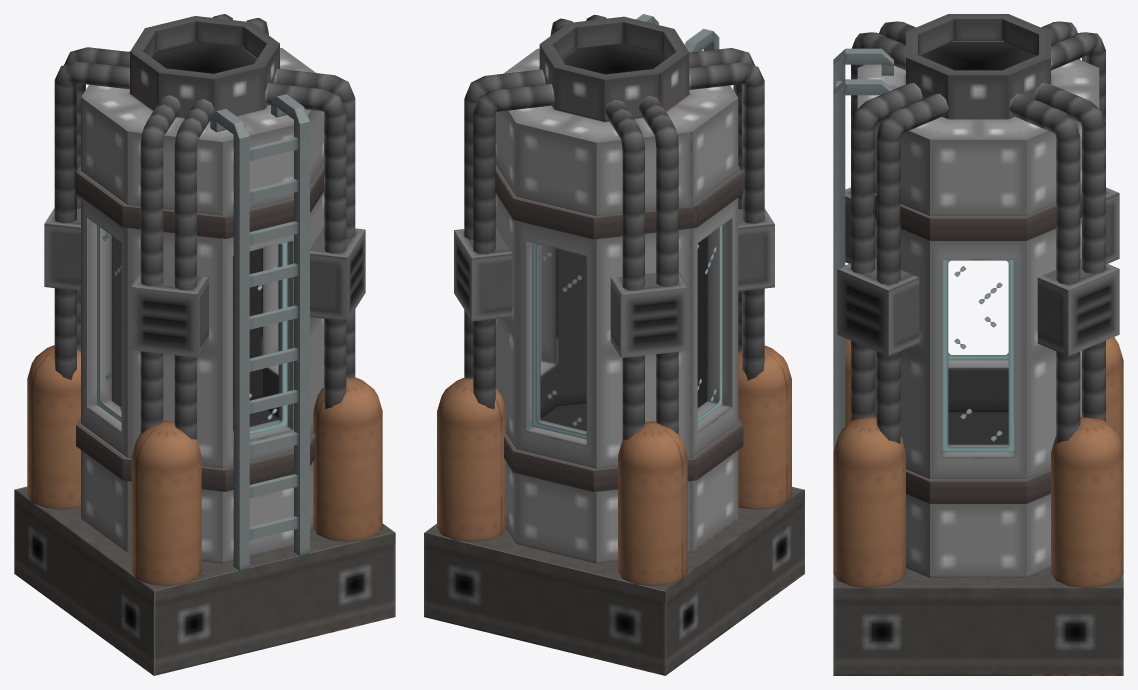
The model's file is acidizer_body.obj.
3 renders of one model, left to right at view 1: azimuth 30°, elevation 25°; view 2: azimuth 150°, elevation 25°; view 3: azimuth 270°, elevation 25°, orthographic. The views are drawn at different scales.
Visible parts, largest first — view 1: Body; view 2: Body; view 3: Body.
Boxes of the visible parts, x1=… form: Body: x1=14, y1=14, x2=395, y2=675; Body: x1=424, y1=14, x2=804, y2=675; Body: x1=833, y1=14, x2=1123, y2=675.
Size of the model in its own units: 3 by 6.5 by 3.
